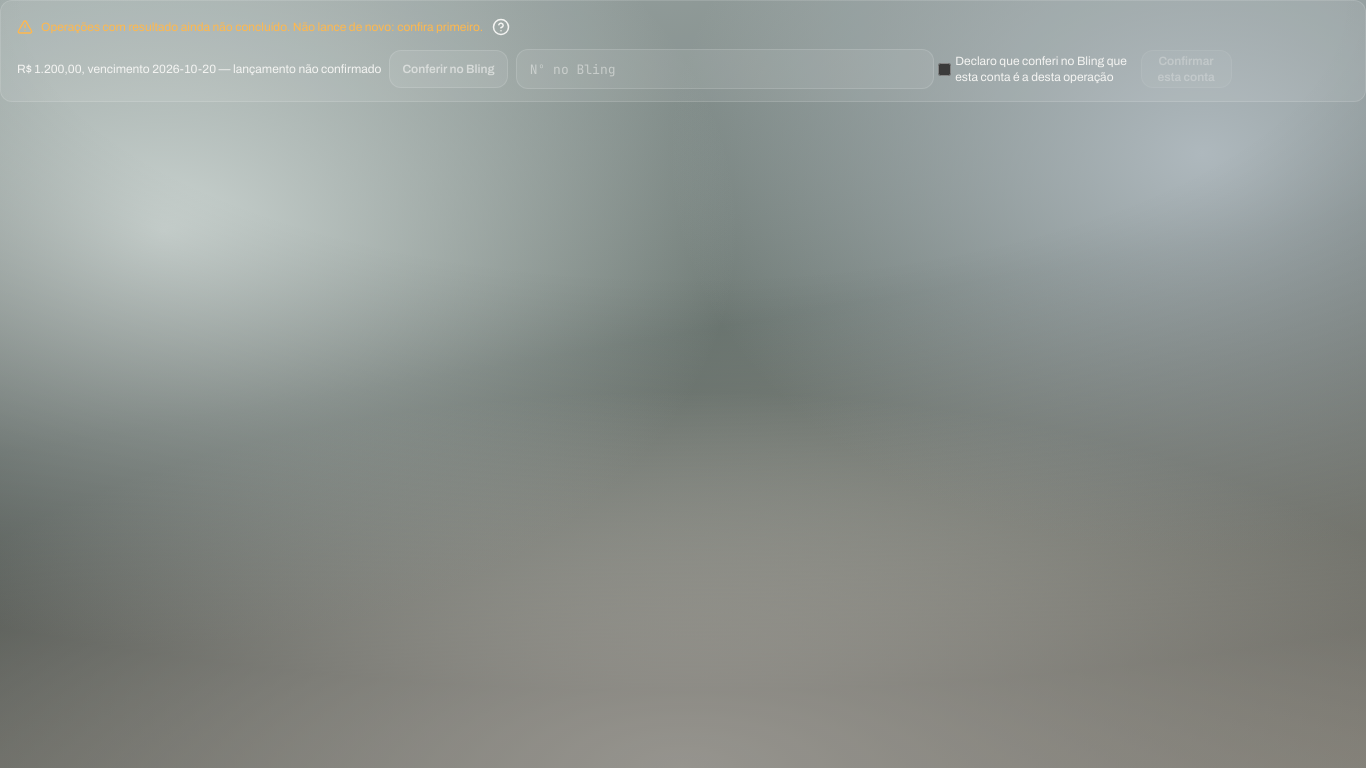
operações pendentes › depois da revisão manual, o operador aponta a conta e o servidor decide
Step 1. Type "88a123" into the field named "Número da conta no Bling" → [725, 69], box [516,49,934,89]
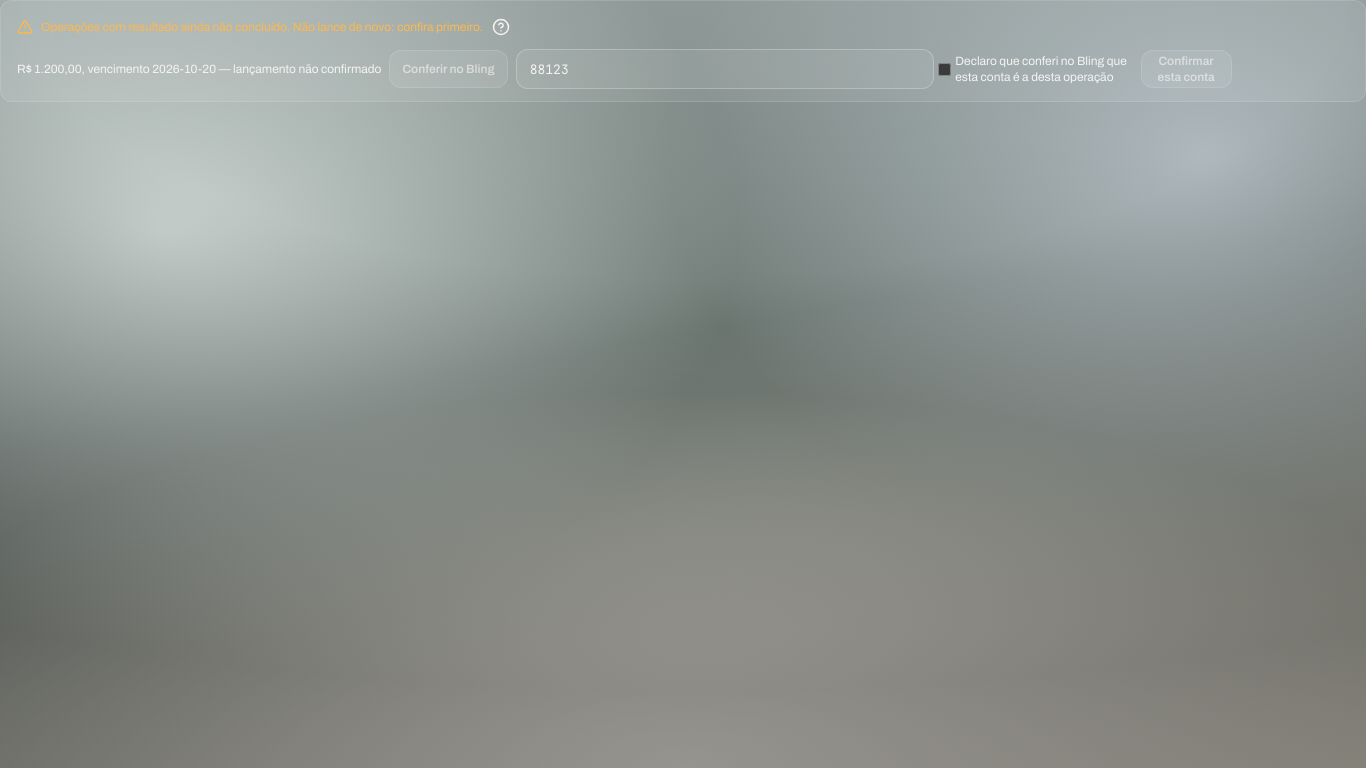
Step 2. Click the button "Confirmar esta conta" → [1186, 69], box [1140,50,1232,88]
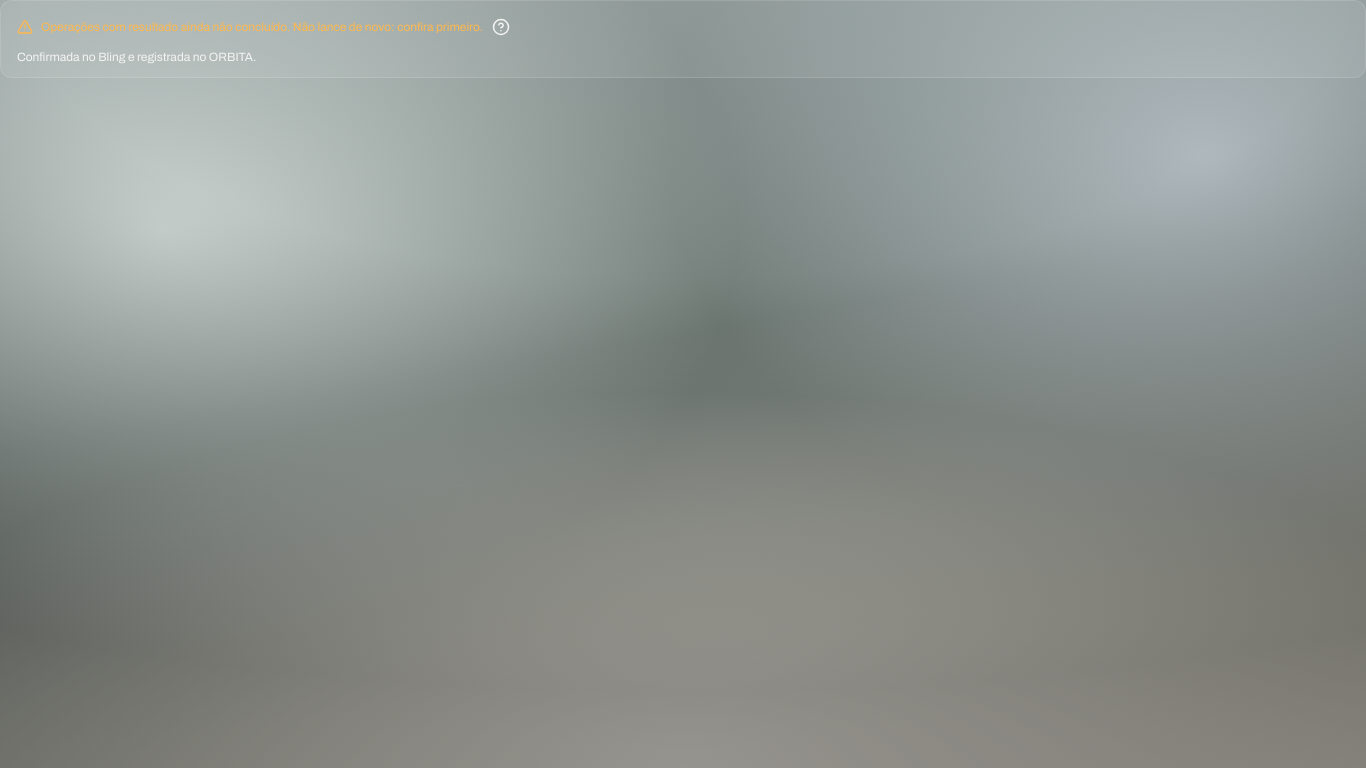
Expected: the text "Confirmada no Bling e registrada no ORBITA." is shown, [17,50,256,64]
